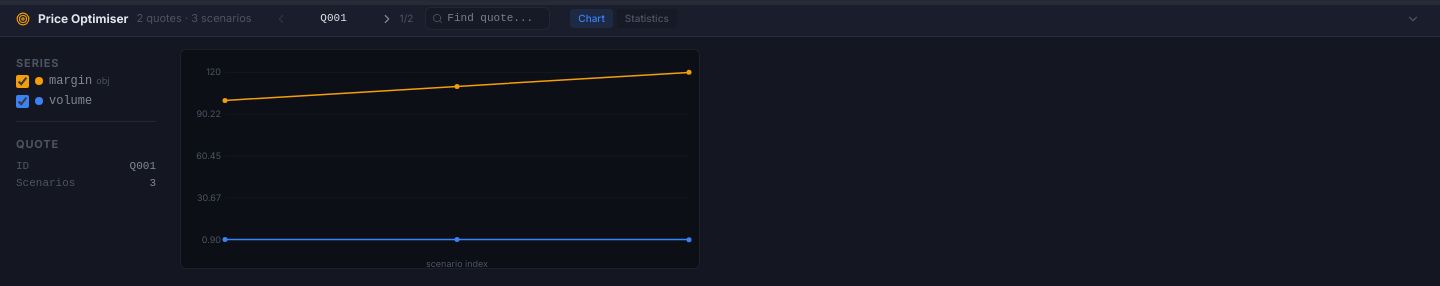
Test case: OptimiserDataPreview › Edge cases › collapse and expand work
Click the 5th button. click: (1413, 18)
box: [1402,8,1424,30]
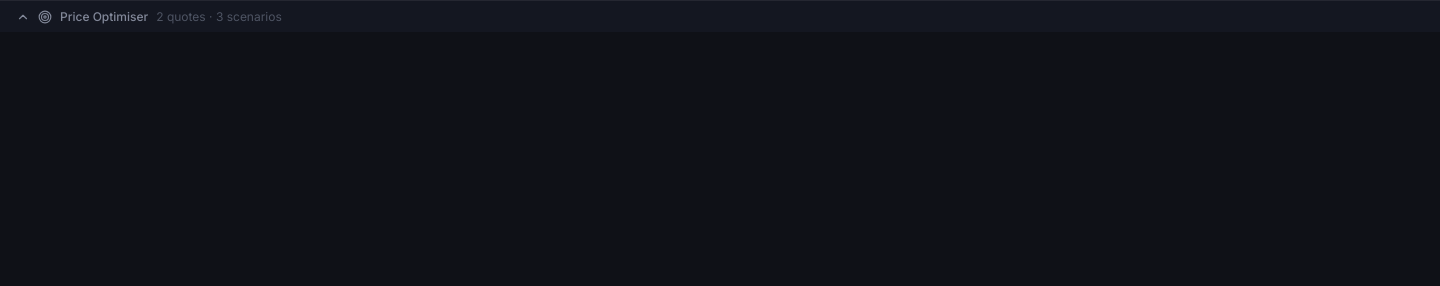
expect the icon with class "lucide-chevron-up" is shown: met, box [16,10,30,24]
